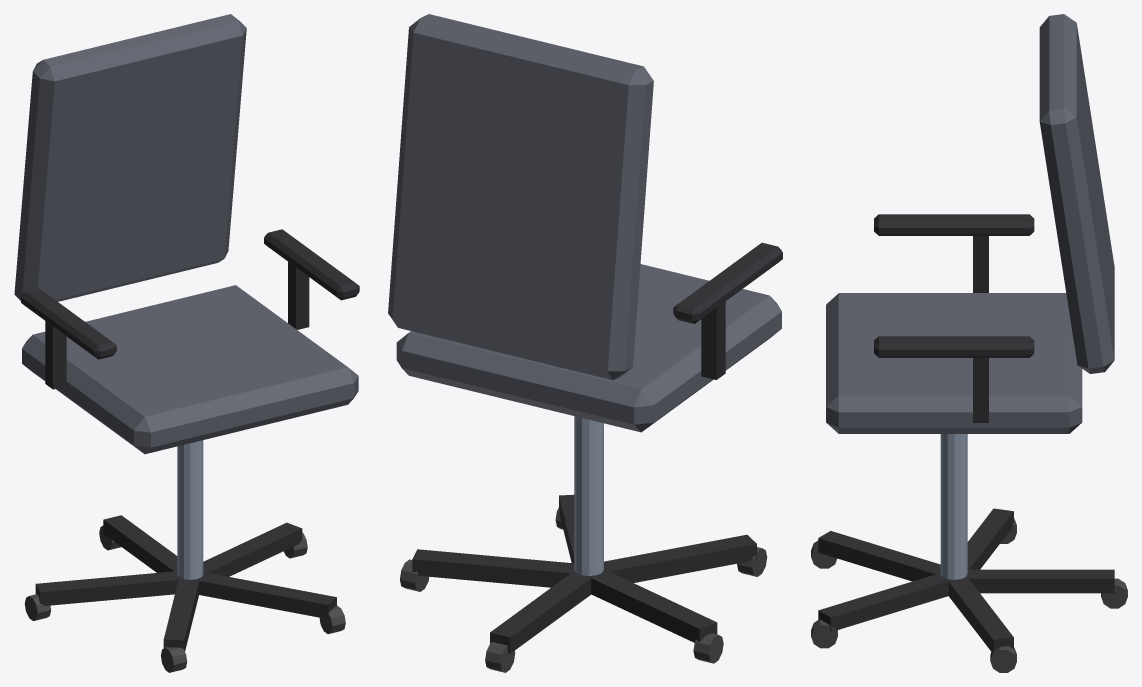
File: office_chair.fbx
3 renders of one model, left to right at view 1: azimuth 30°, elevation 25°; view 2: azimuth 150°, elevation 25°; view 3: azimuth 270°, elevation 25°, orthographic. The views are drawn at different scales.
Parts seen in each view (by area): view 1: Chair; view 2: Chair; view 3: Chair.
Part boxes in pixels (<box>): Chair: <box>14,14,359,672</box>; Chair: <box>388,14,782,672</box>; Chair: <box>811,14,1127,672</box>.
Bounding box in the file's own units: 0.6006 × 1.12 × 0.5927.
